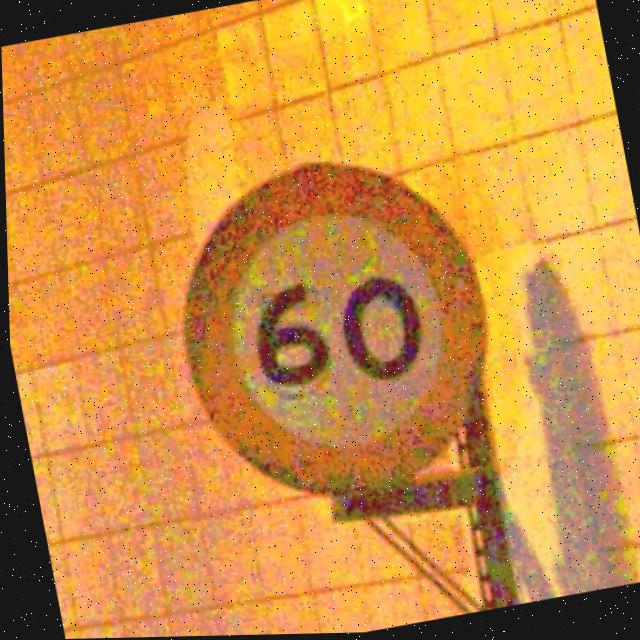max60: (149, 134, 516, 536)
